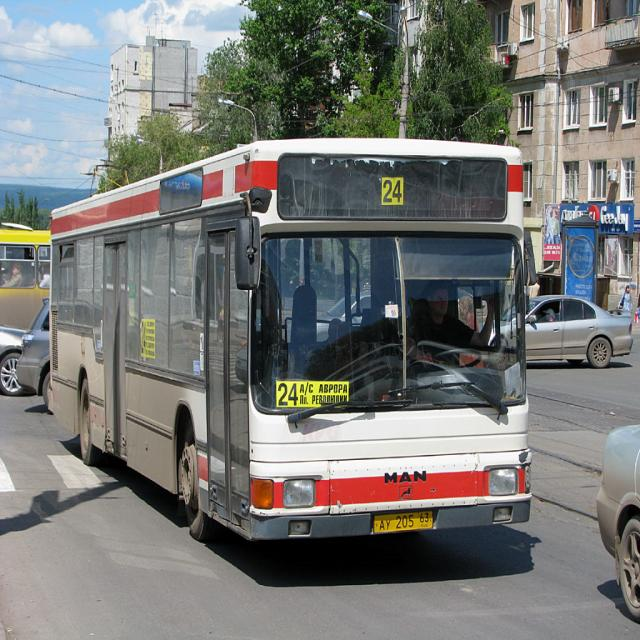number-of-bus: (383, 178, 405, 207), (278, 384, 300, 410)
